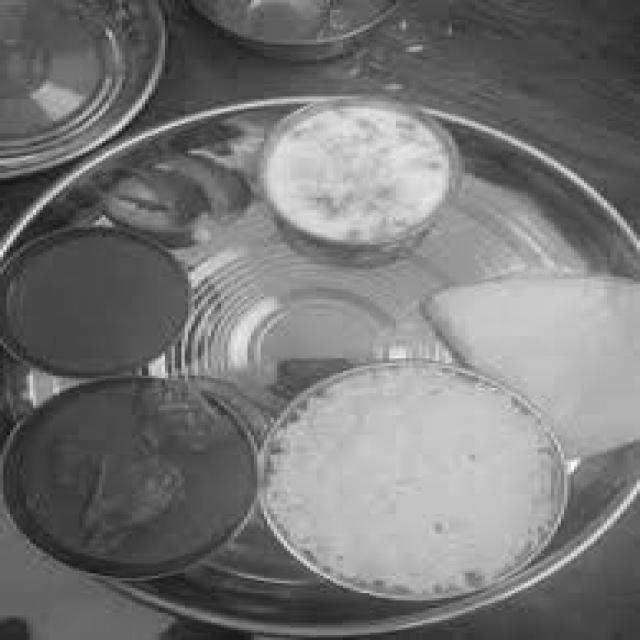RICE BHAKRI: (254, 361, 561, 593)
